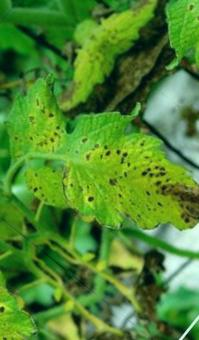Tomato Septoria leaf spot: (0, 39, 199, 304)
